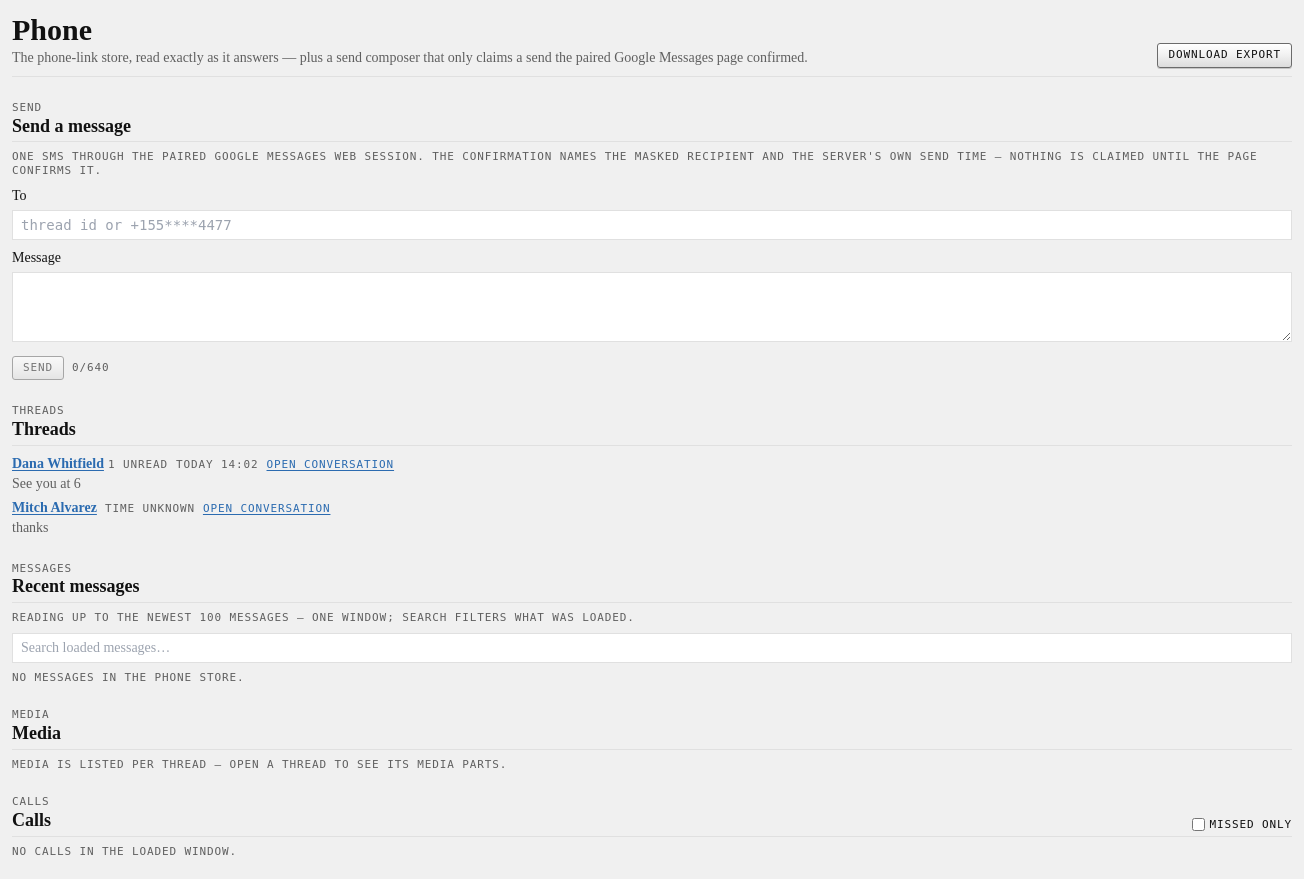
Scenario: phone send composer — honest refusals › E_SANDBOX_BLOCKED renders by name and DISABLES the composer with the named reason
Type "11" into the field with test id "phone-send-to" at (652, 225), box left=12, top=210, right=1292, bottom=240
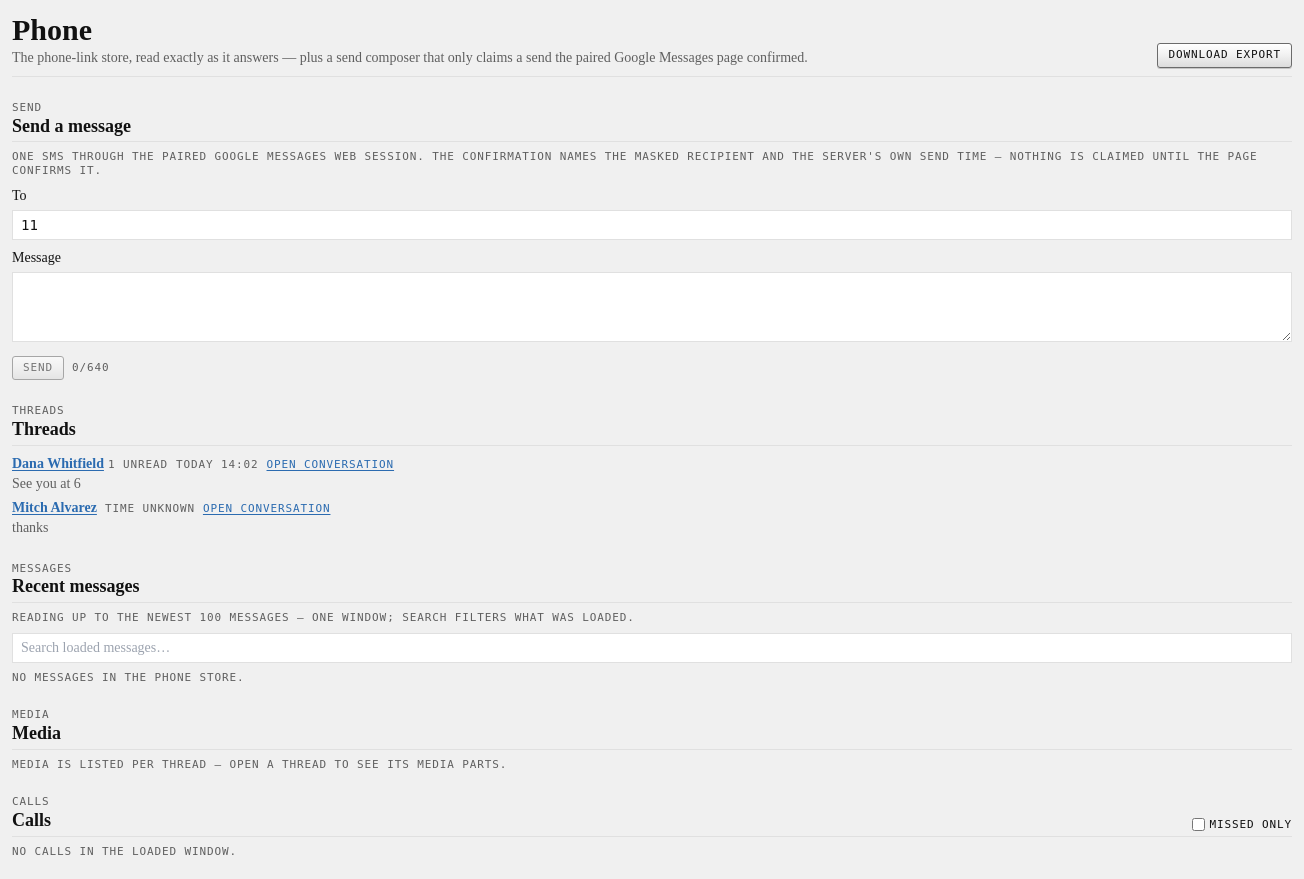
Type "Running late" into the text box with test id "phone-send-body" at (652, 307), box left=12, top=272, right=1292, bottom=342
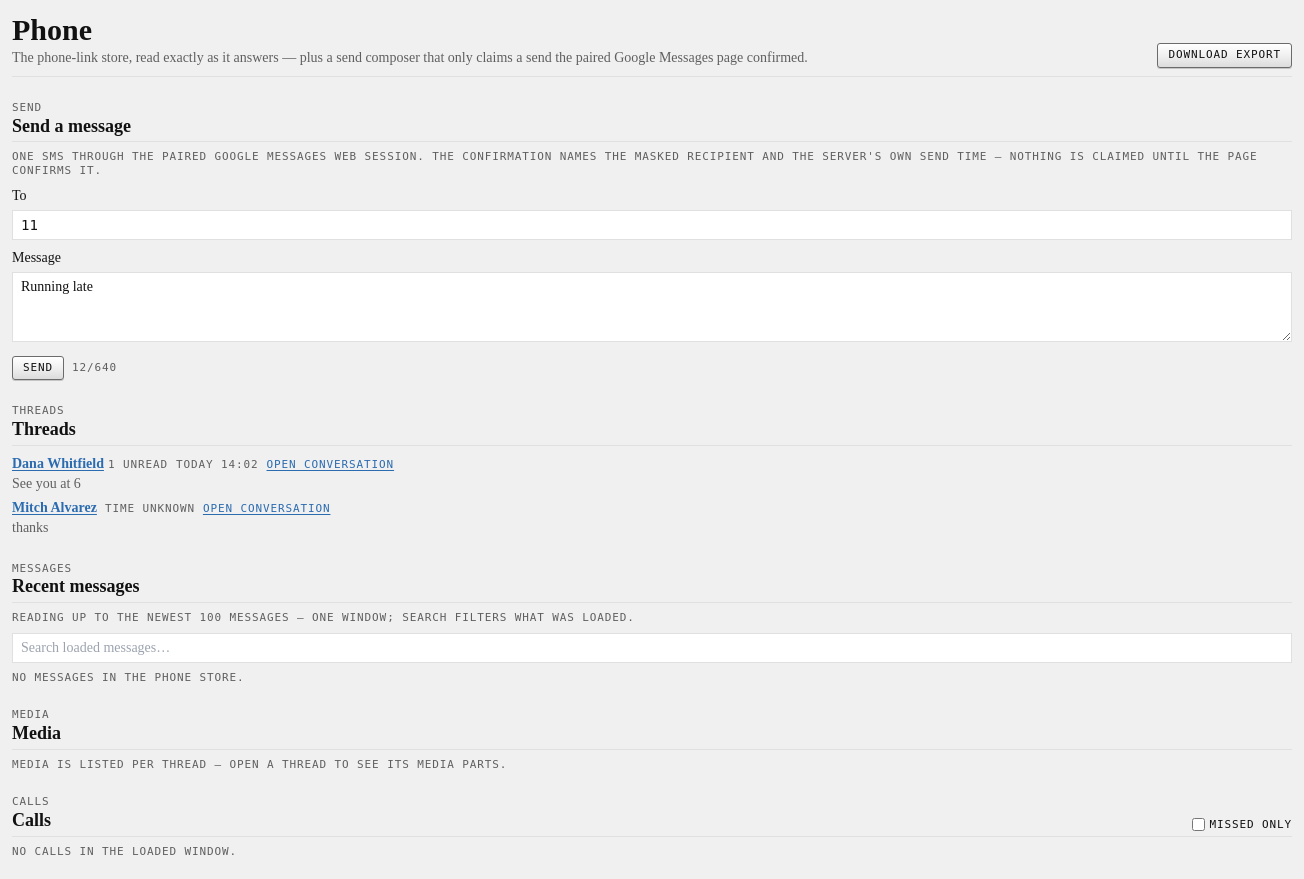
Click the button with test id "phone-send-submit" at (38, 368), box left=12, top=356, right=64, bottom=380
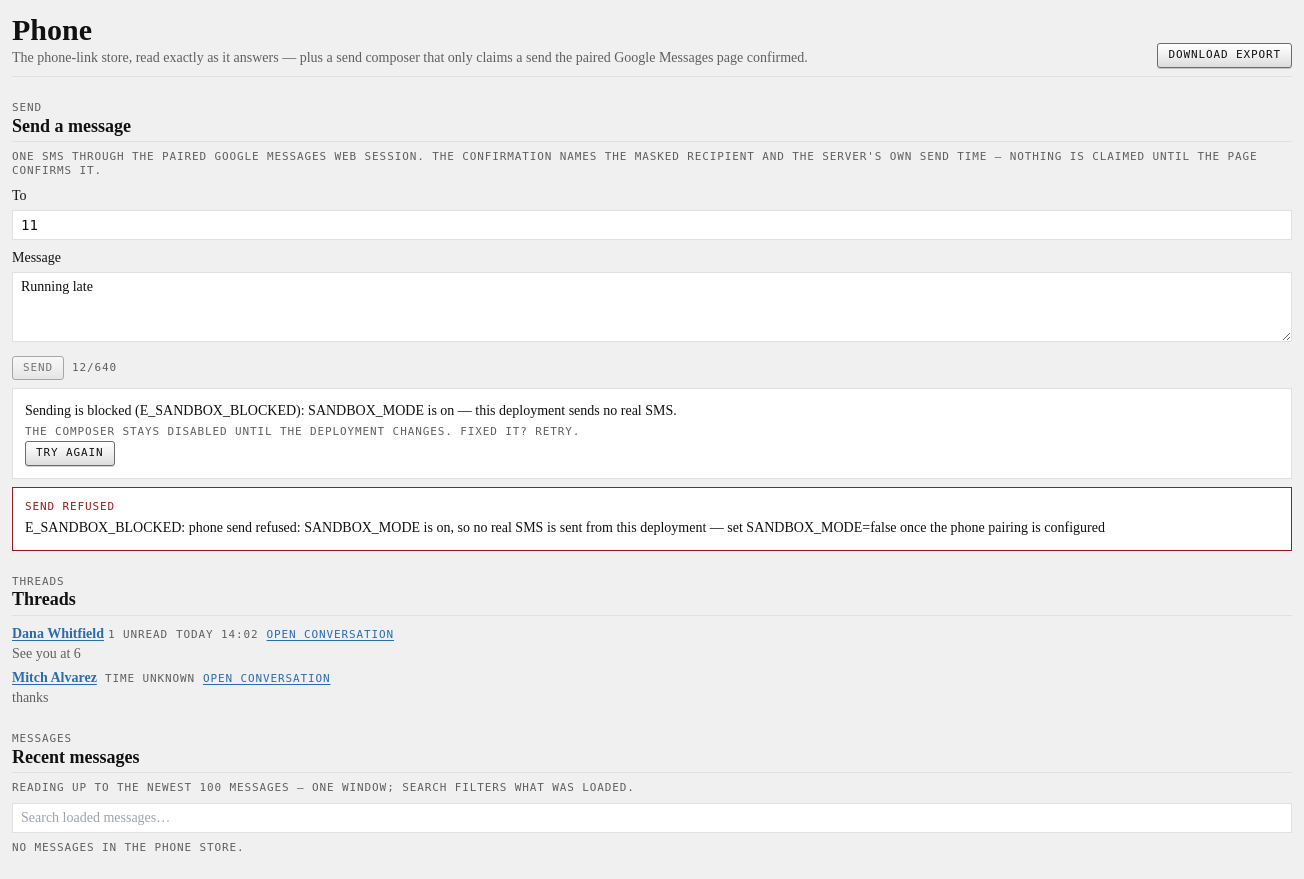
Now the message with test id "phone-send-error" shows "E_SANDBOX_BLOCKED", box left=25, top=520, right=1105, bottom=534
Now the message with test id "phone-send-error" shows "SANDBOX_MODE", box left=25, top=520, right=1105, bottom=534
Now the button with test id "phone-send-submit" is disabled, box left=12, top=356, right=64, bottom=380
